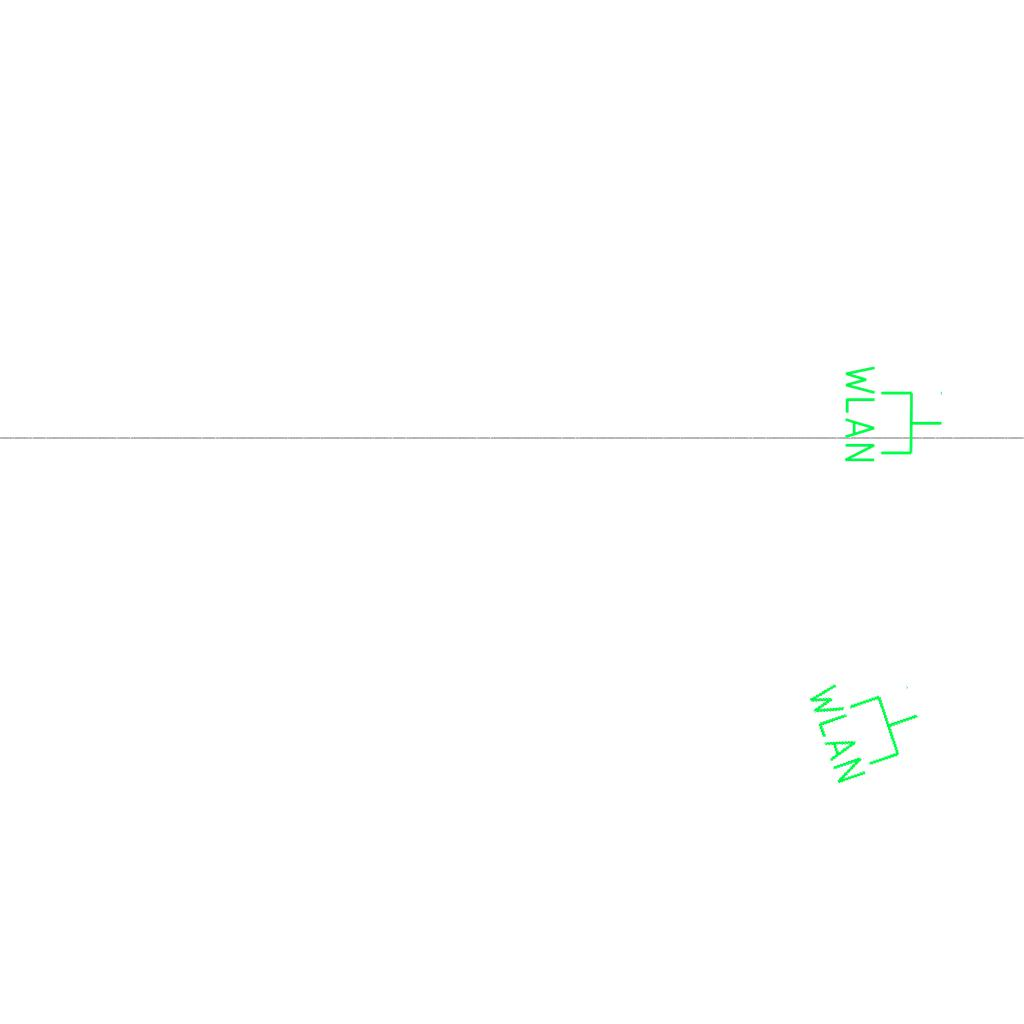WLAN: (801, 655, 935, 790), (841, 361, 945, 466)
